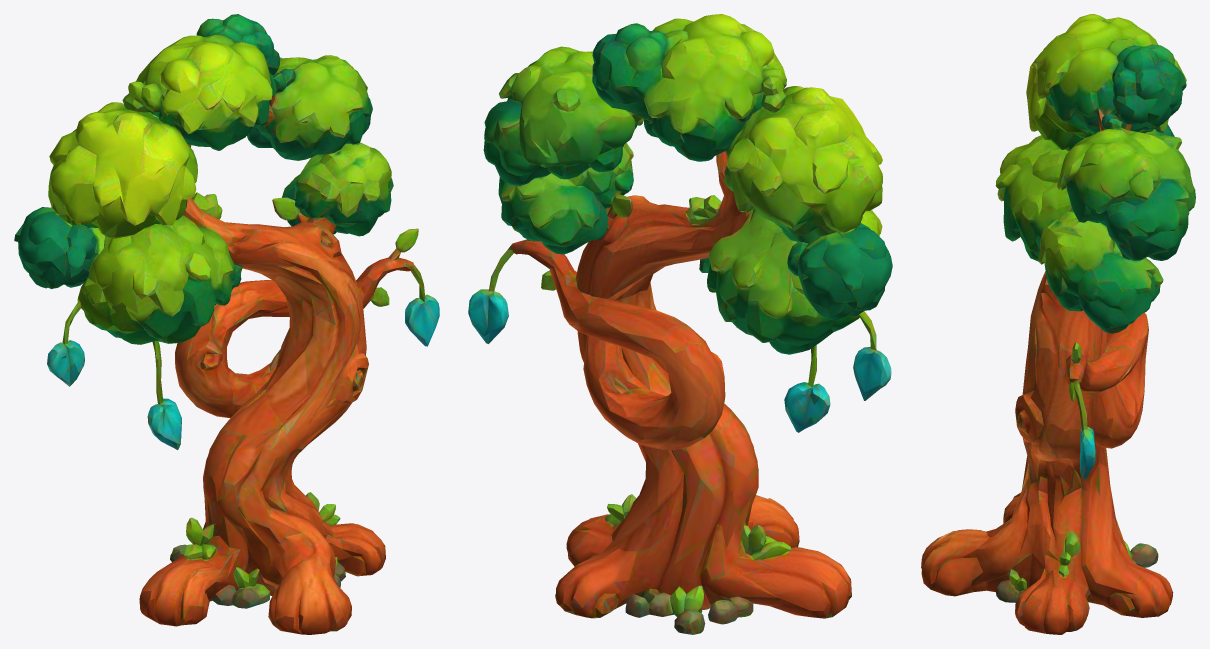
File: whimsywood-tree.glb
The picture shows the model from 3 angles, left to right: view 1: azimuth 30°, elevation 25°; view 2: azimuth 150°, elevation 25°; view 3: azimuth 270°, elevation 25°; orthographic projection. The views are drawn at different scales.
Visible parts, largest first — view 1: output_unwrapped; view 2: output_unwrapped; view 3: output_unwrapped.
Boxes of the visible parts, bbox=[...] form: output_unwrapped: bbox=[14, 14, 439, 634]; output_unwrapped: bbox=[468, 14, 892, 634]; output_unwrapped: bbox=[921, 14, 1195, 634].
Bounding box in the file's own units: 1.47 × 1.9 × 0.875.
Materials: 1 (1 with a texture image).
